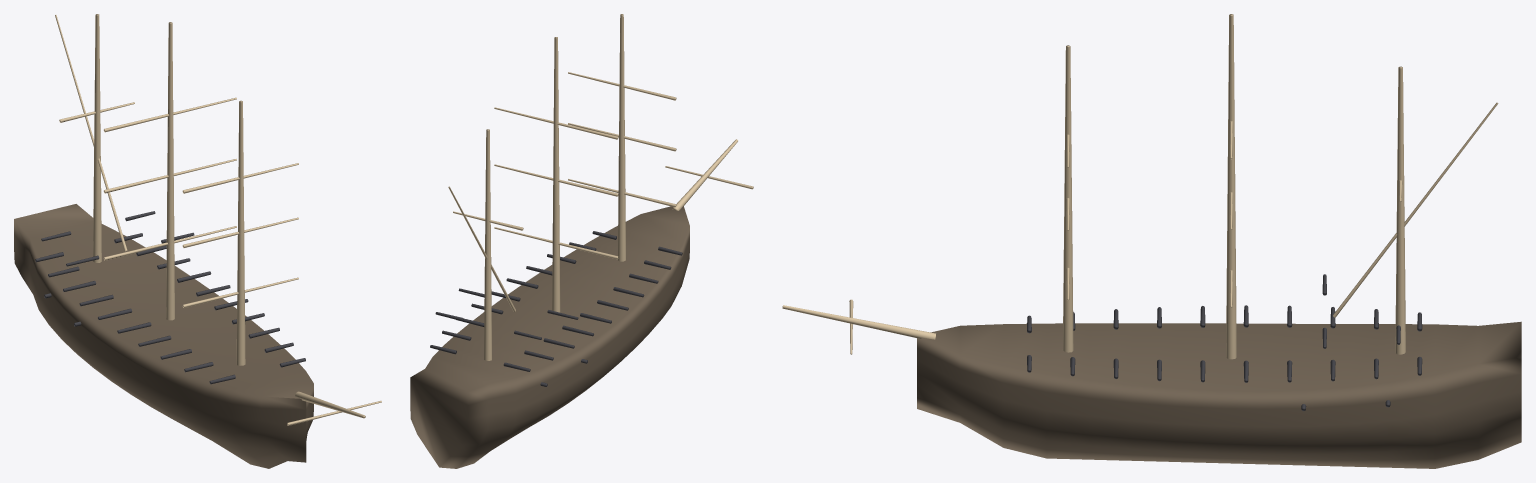
Rendered from speedwell.glb.
3 views of the same model, side by side, from view 1: azimuth 30°, elevation 25°; view 2: azimuth 150°, elevation 25°; view 3: azimuth 270°, elevation 25° (orthographic). The views are drawn at different scales.
Visible parts, largest first — view 1: Coque, GrandMat, Misaine, Artimon, Antenne, Beaupre; view 2: Coque, GrandMat, Misaine, Artimon, Beaupre, Antenne; view 3: Coque, GrandMat, Misaine, Artimon, Beaupre, Antenne.
Part boxes in pixels (left/top/right/bottom): Coque: left=14, top=204, right=313, bottom=468; GrandMat: left=103, top=22, right=236, bottom=320; Misaine: left=182, top=100, right=298, bottom=365; Artimon: left=59, top=14, right=134, bottom=262; Antenne: left=55, top=15, right=127, bottom=251; Beaupre: left=295, top=391, right=365, bottom=418; Coque: left=410, top=206, right=689, bottom=468; GrandMat: left=494, top=37, right=618, bottom=314; Misaine: left=568, top=14, right=676, bottom=261; Artimon: left=453, top=129, right=523, bottom=360; Beaupre: left=672, top=139, right=737, bottom=210; Antenne: left=448, top=186, right=515, bottom=311; Coque: left=917, top=321, right=1521, bottom=468; GrandMat: left=1226, top=14, right=1236, bottom=359; Misaine: left=1063, top=45, right=1073, bottom=352; Artimon: left=1395, top=66, right=1405, bottom=354; Beaupre: left=782, top=305, right=935, bottom=339; Antenne: left=1333, top=102, right=1498, bottom=317.
Bounding box in the file's own units: 8.36 × 23.74 × 35.03.
